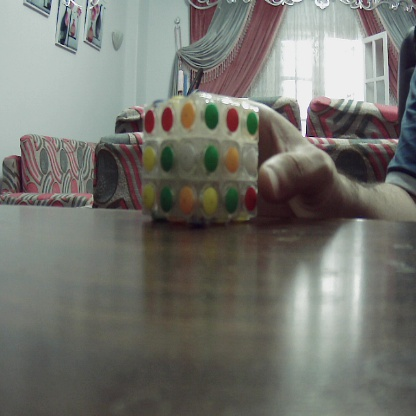Rubix Cube: (141, 96, 261, 224)
